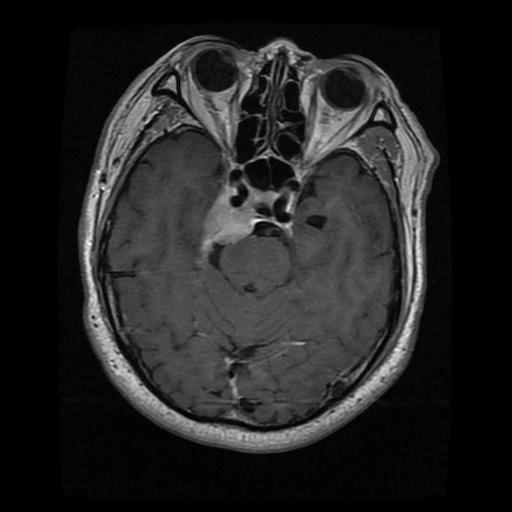Tumour-Meningioma: (189, 165, 265, 272)
